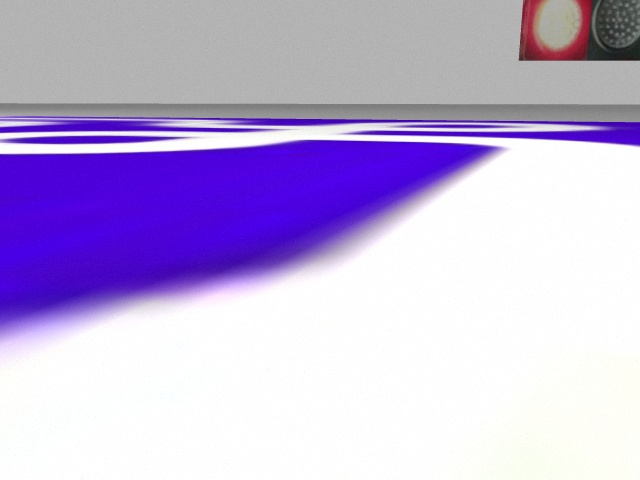red: (522, 1, 590, 59)
